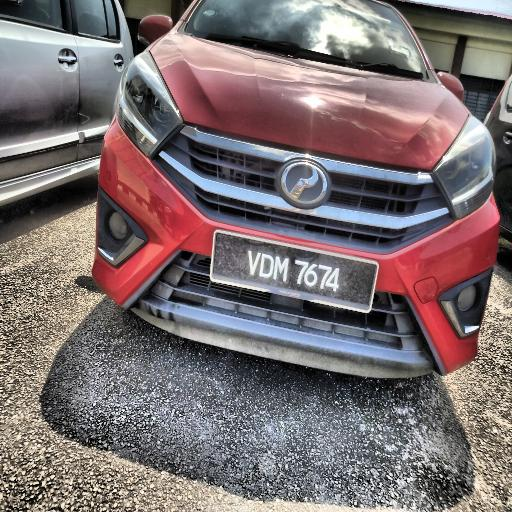license_plate: (208, 223, 380, 320)
